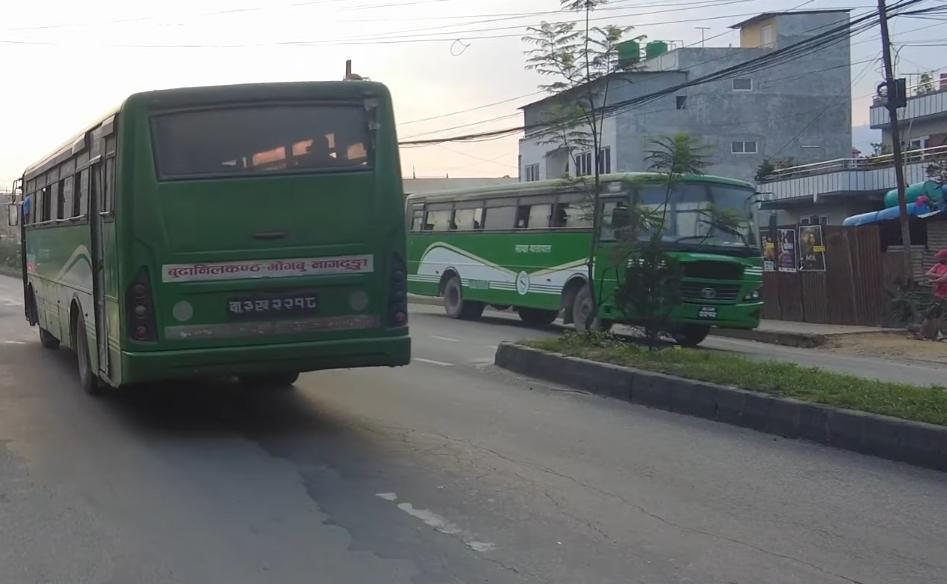bus: (0, 73, 418, 413), (406, 162, 775, 348)
